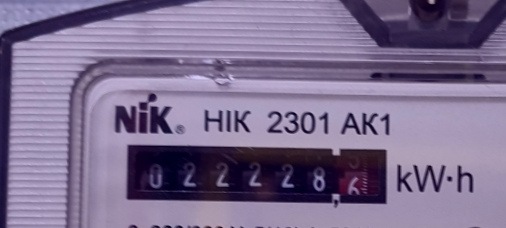0: (146, 160, 163, 189)
2: (179, 158, 198, 188), (213, 159, 230, 188), (279, 161, 296, 190), (246, 159, 263, 187)
5: (345, 150, 361, 170)
6: (345, 173, 361, 194)
8: (311, 164, 326, 192)
screen: (118, 133, 396, 212)
